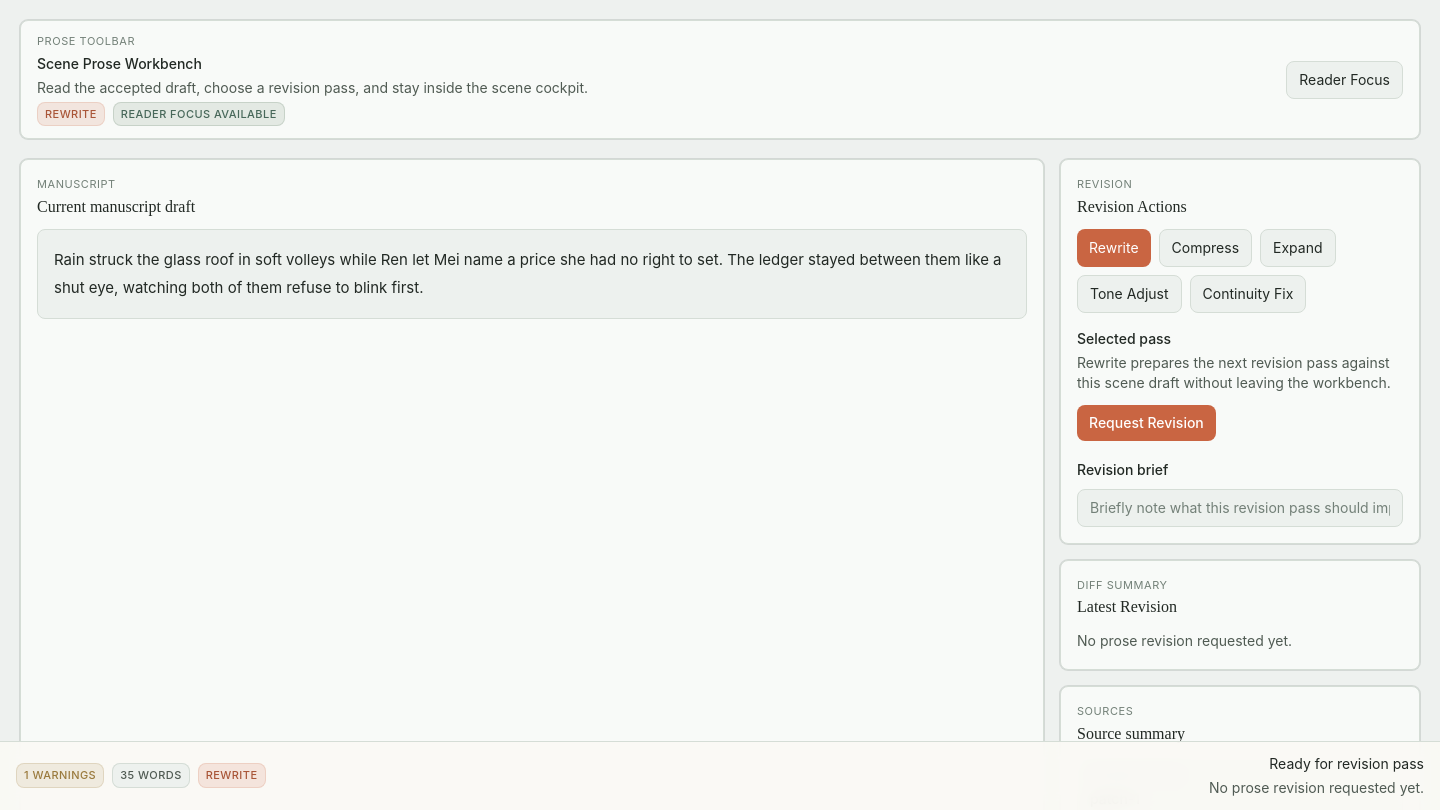
Scenario: SceneProseContainer › applies a mock revision request and updates the prose status footer
Expected: the heading "Current manuscript draft" is shown, [37,196,195,216]
Click the button "Compress": {"x": 1205, "y": 248} [1159,228,1252,266]
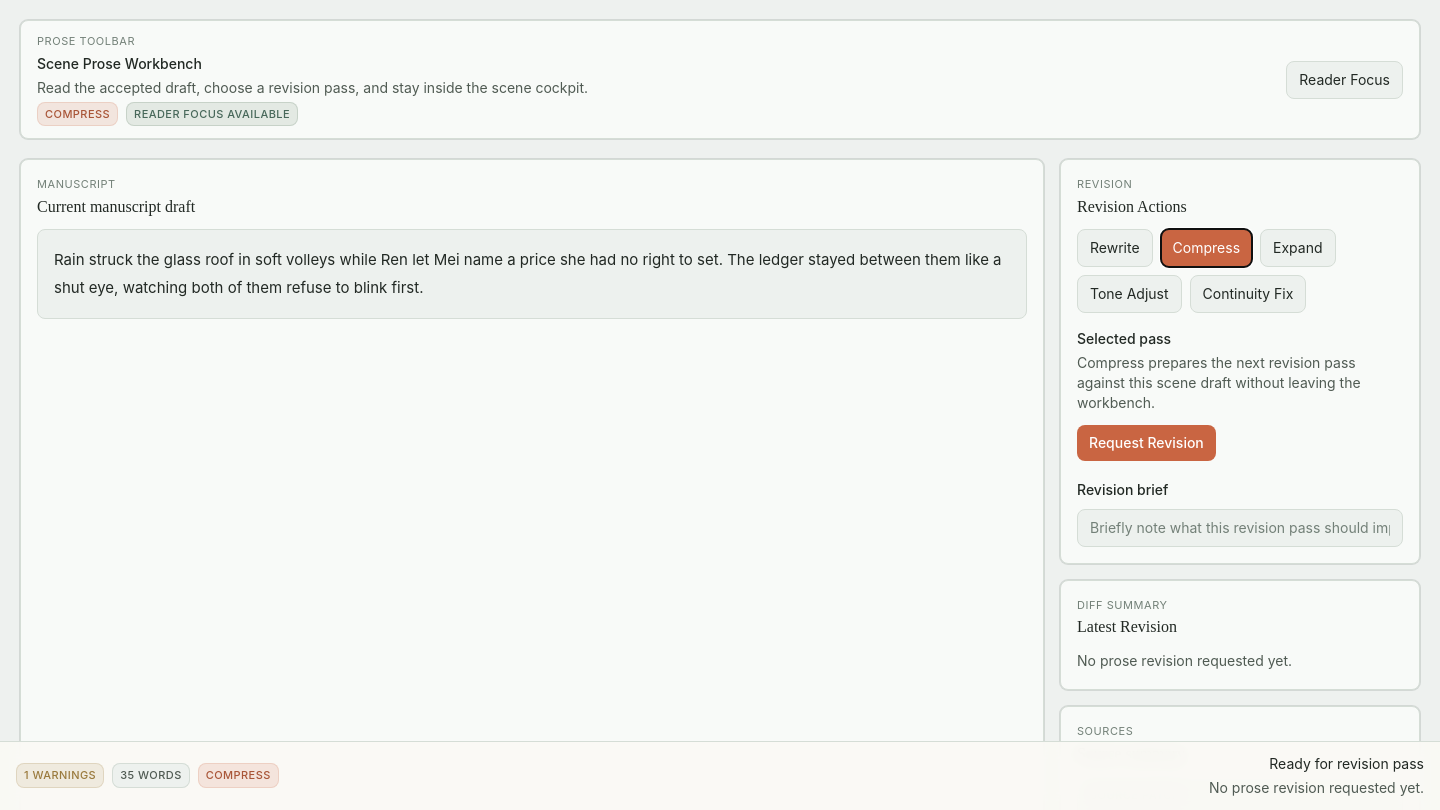
Click the button "Request Revision": {"x": 1146, "y": 442} [1077,424,1216,460]
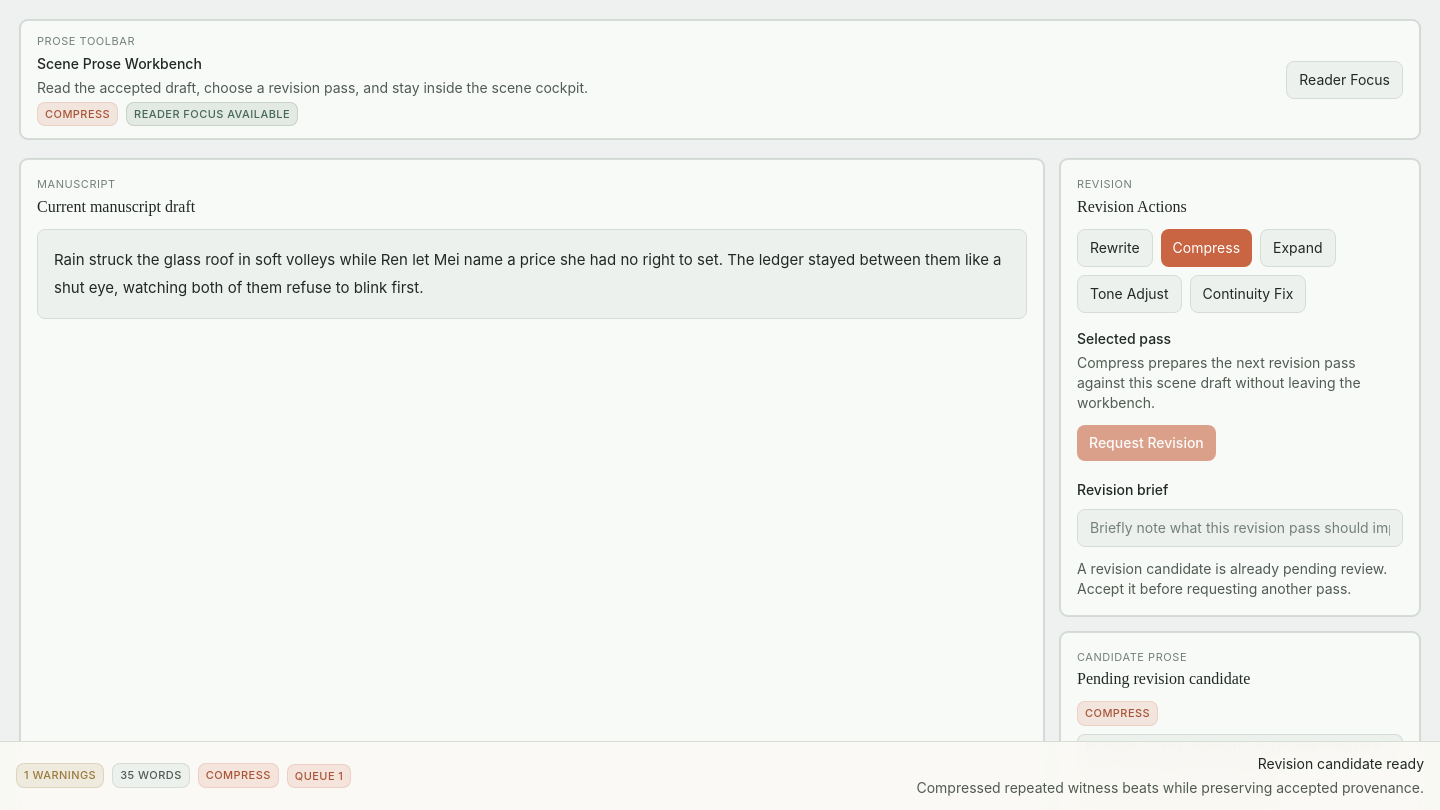
Expected: the heading "Pending revision candidate" is shown, [1077,669,1250,689]
Expected: the text "Queue 1" is shown, [287,764,351,788]
